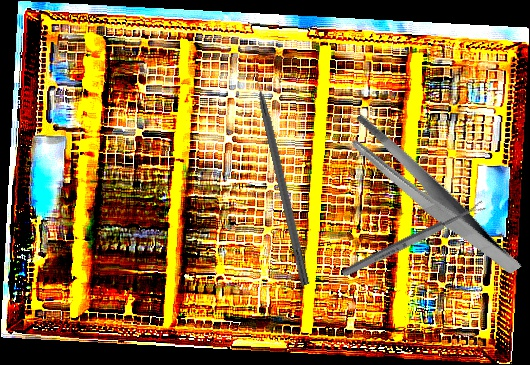Dressing Forceps: (340, 85, 523, 309)
Hook Surgical: (249, 61, 313, 286)
Surgical Spoon: (340, 200, 487, 279)
